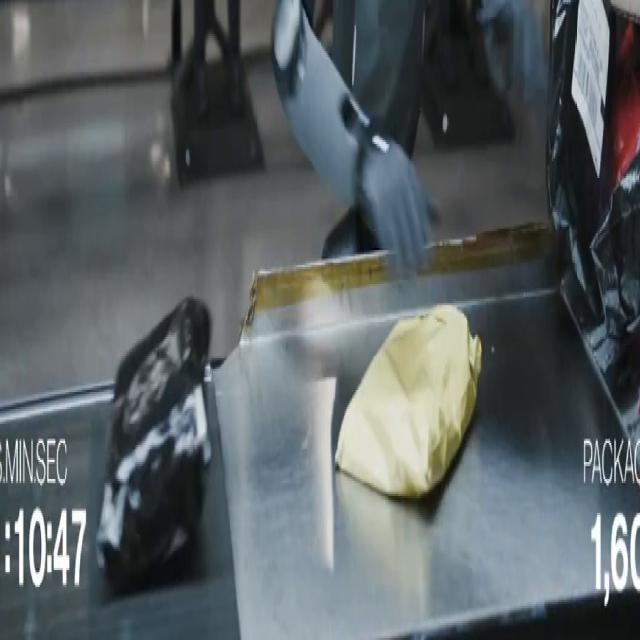package: (97, 299, 211, 589), (547, 0, 639, 341), (336, 306, 482, 498), (612, 22, 639, 184)
